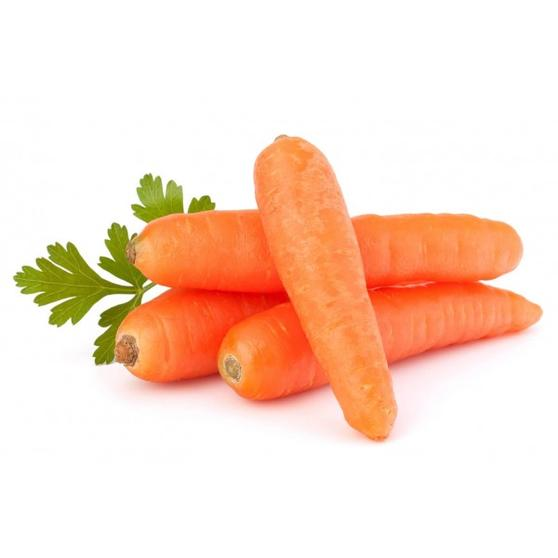carrot: (252, 132, 403, 441)
